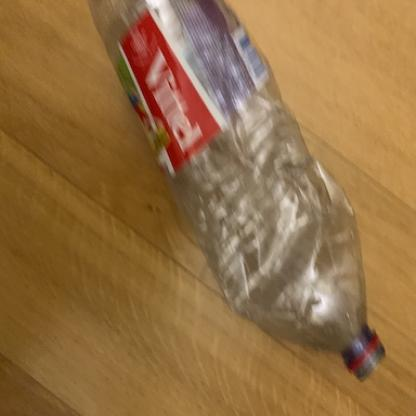trash: (81, 0, 394, 384)
